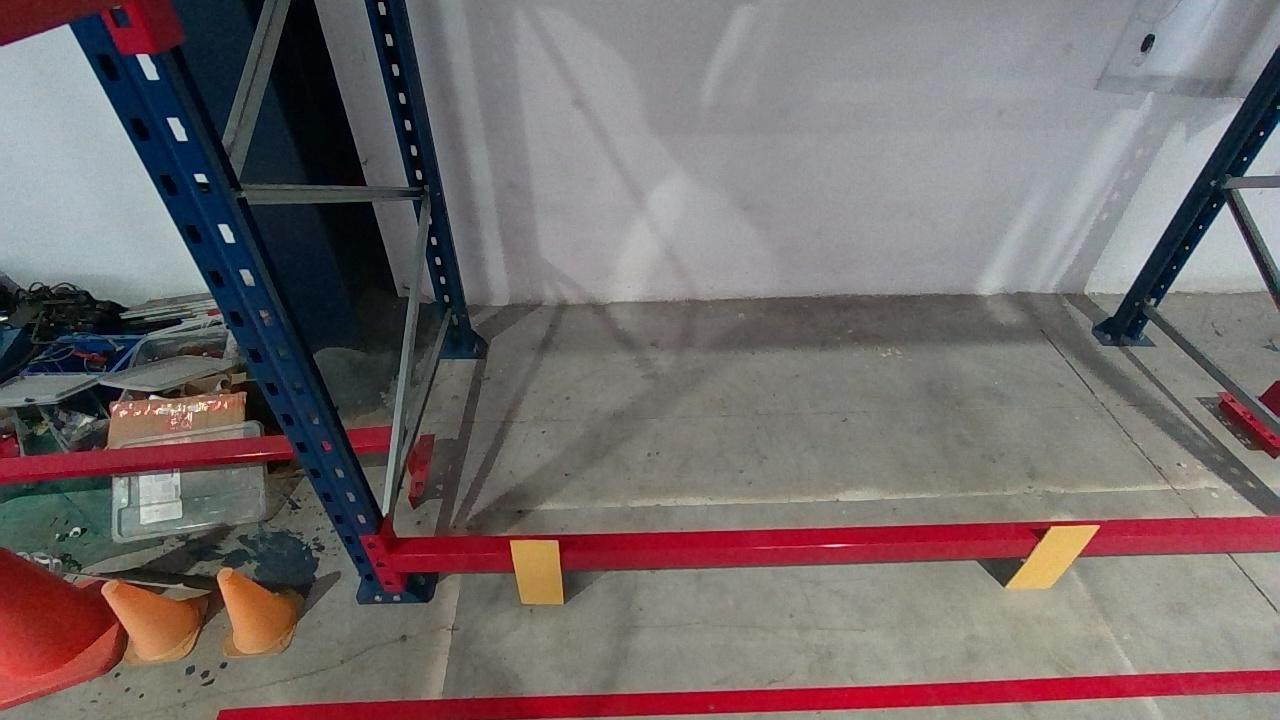h_rack: (384, 524, 1279, 573)
orange_strip: (1005, 526, 1101, 589), (508, 539, 564, 603)
red_line: (213, 670, 1280, 720)
